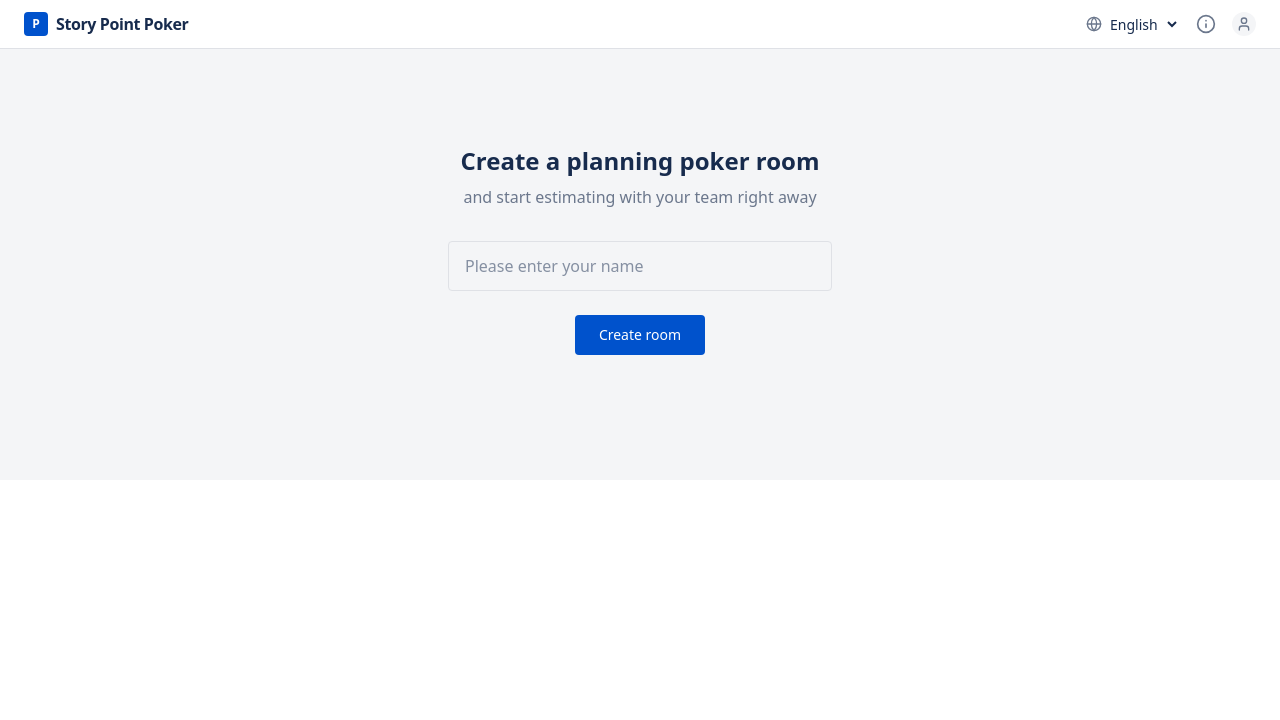
Create room — name validation › proceeds to the invite screen with a valid name
Type "Alex" into the field with placeholder "Please enter your name".
click(640, 266); type("Alex")  # box [448,241,832,291]
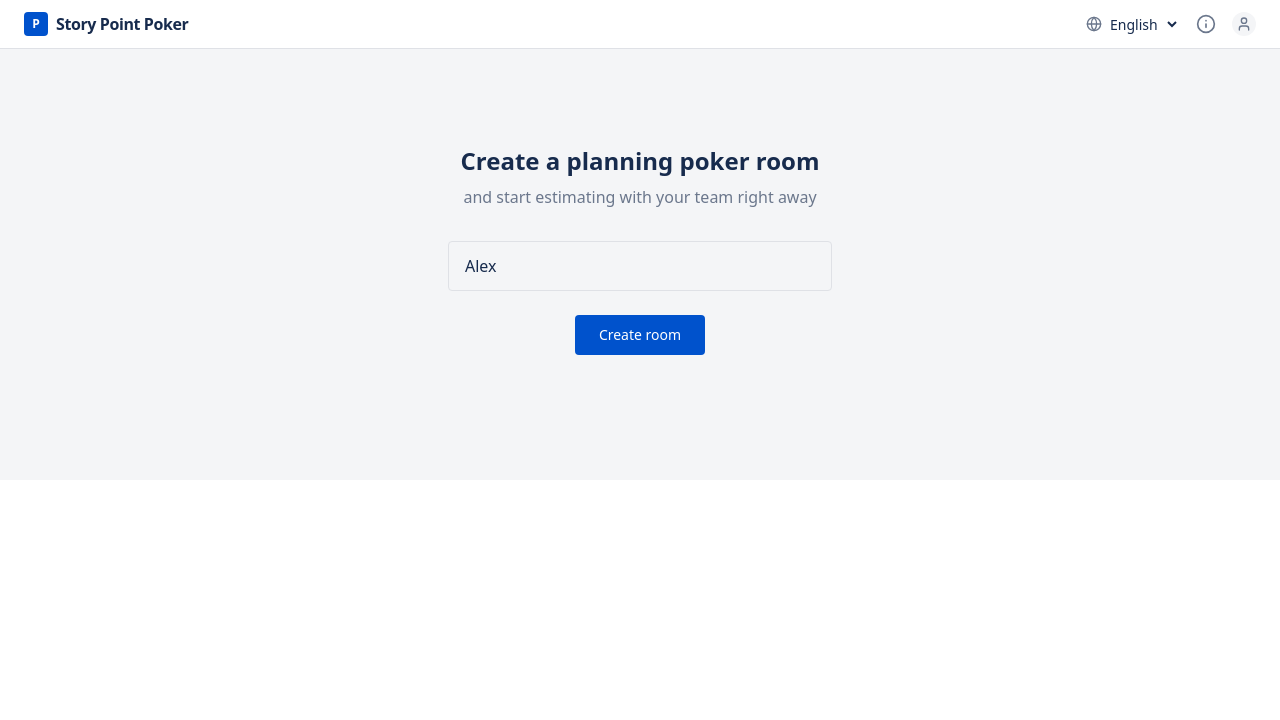
Click the button "Create room".
click(640, 335)  # box [575,315,705,355]
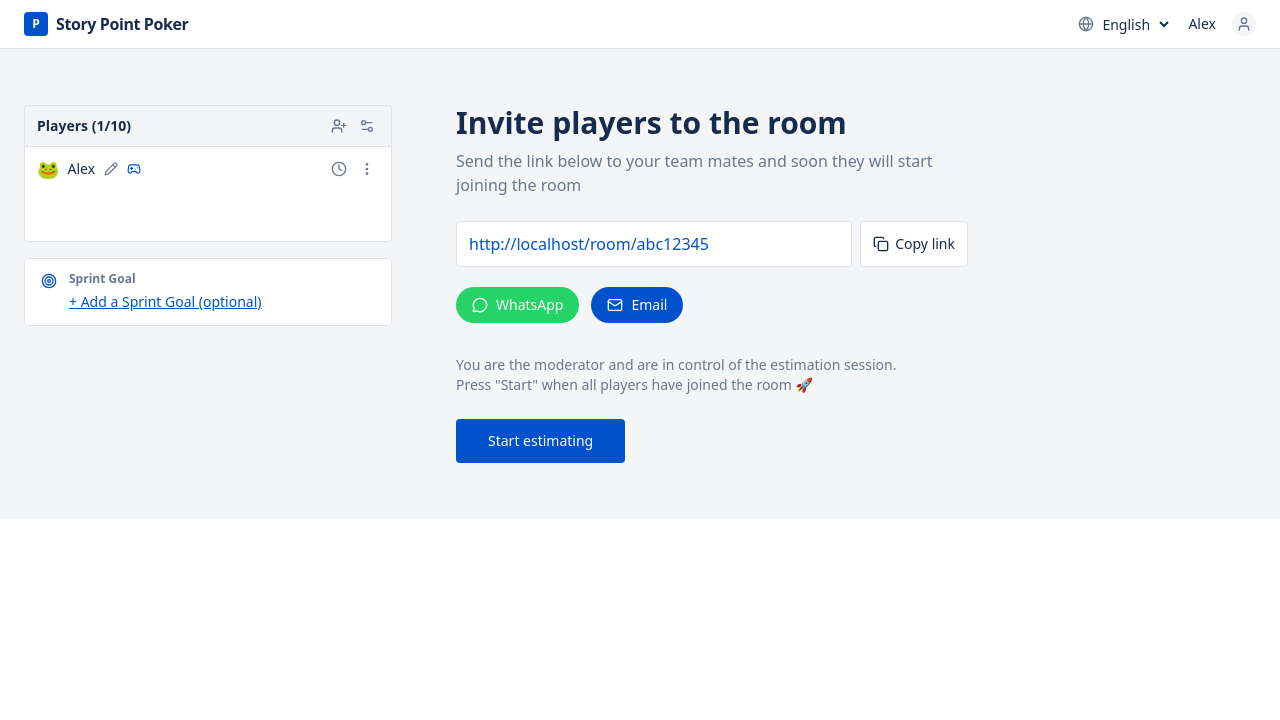
Expected: the heading "Invite players to the room" is shown, [456,102,847,143]
